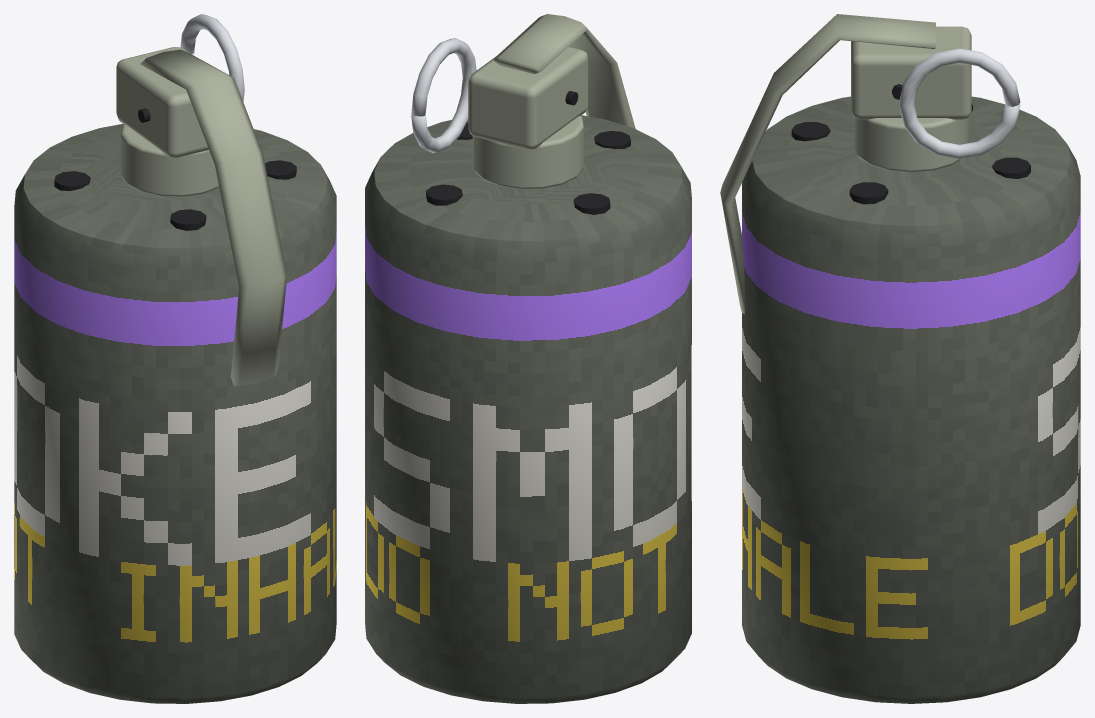
File: pj_smokegren.glb
3 views of the same model, side by side, from view 1: azimuth 30°, elevation 25°; view 2: azimuth 150°, elevation 25°; view 3: azimuth 270°, elevation 25° (orthographic). The views are drawn at different scales.
Parts seen in each view (by area): view 1: psmoke_wzB, psmoke_wzA, psmoke_wzN; view 2: psmoke_wzB, psmoke_wzA, psmoke_wzN; view 3: psmoke_wzB, psmoke_wzA, psmoke_wzN.
Part boxes in pixels (x1=…): psmoke_wzB: x1=14, y1=124, x2=336, y2=703; psmoke_wzA: x1=116, y1=14, x2=286, y2=385; psmoke_wzN: x1=54, y1=108, x2=296, y2=230; psmoke_wzB: x1=365, y1=115, x2=691, y2=703; psmoke_wzA: x1=411, y1=14, x2=635, y2=189; psmoke_wzN: x1=426, y1=91, x2=630, y2=214; psmoke_wzB: x1=742, y1=96, x2=1080, y2=703; psmoke_wzA: x1=720, y1=14, x2=1020, y2=314; psmoke_wzN: x1=791, y1=84, x2=1030, y2=204.
Bounding box in the file's own units: 0.14 × 0.2822 × 0.149.
4 materials, 1 textured.
